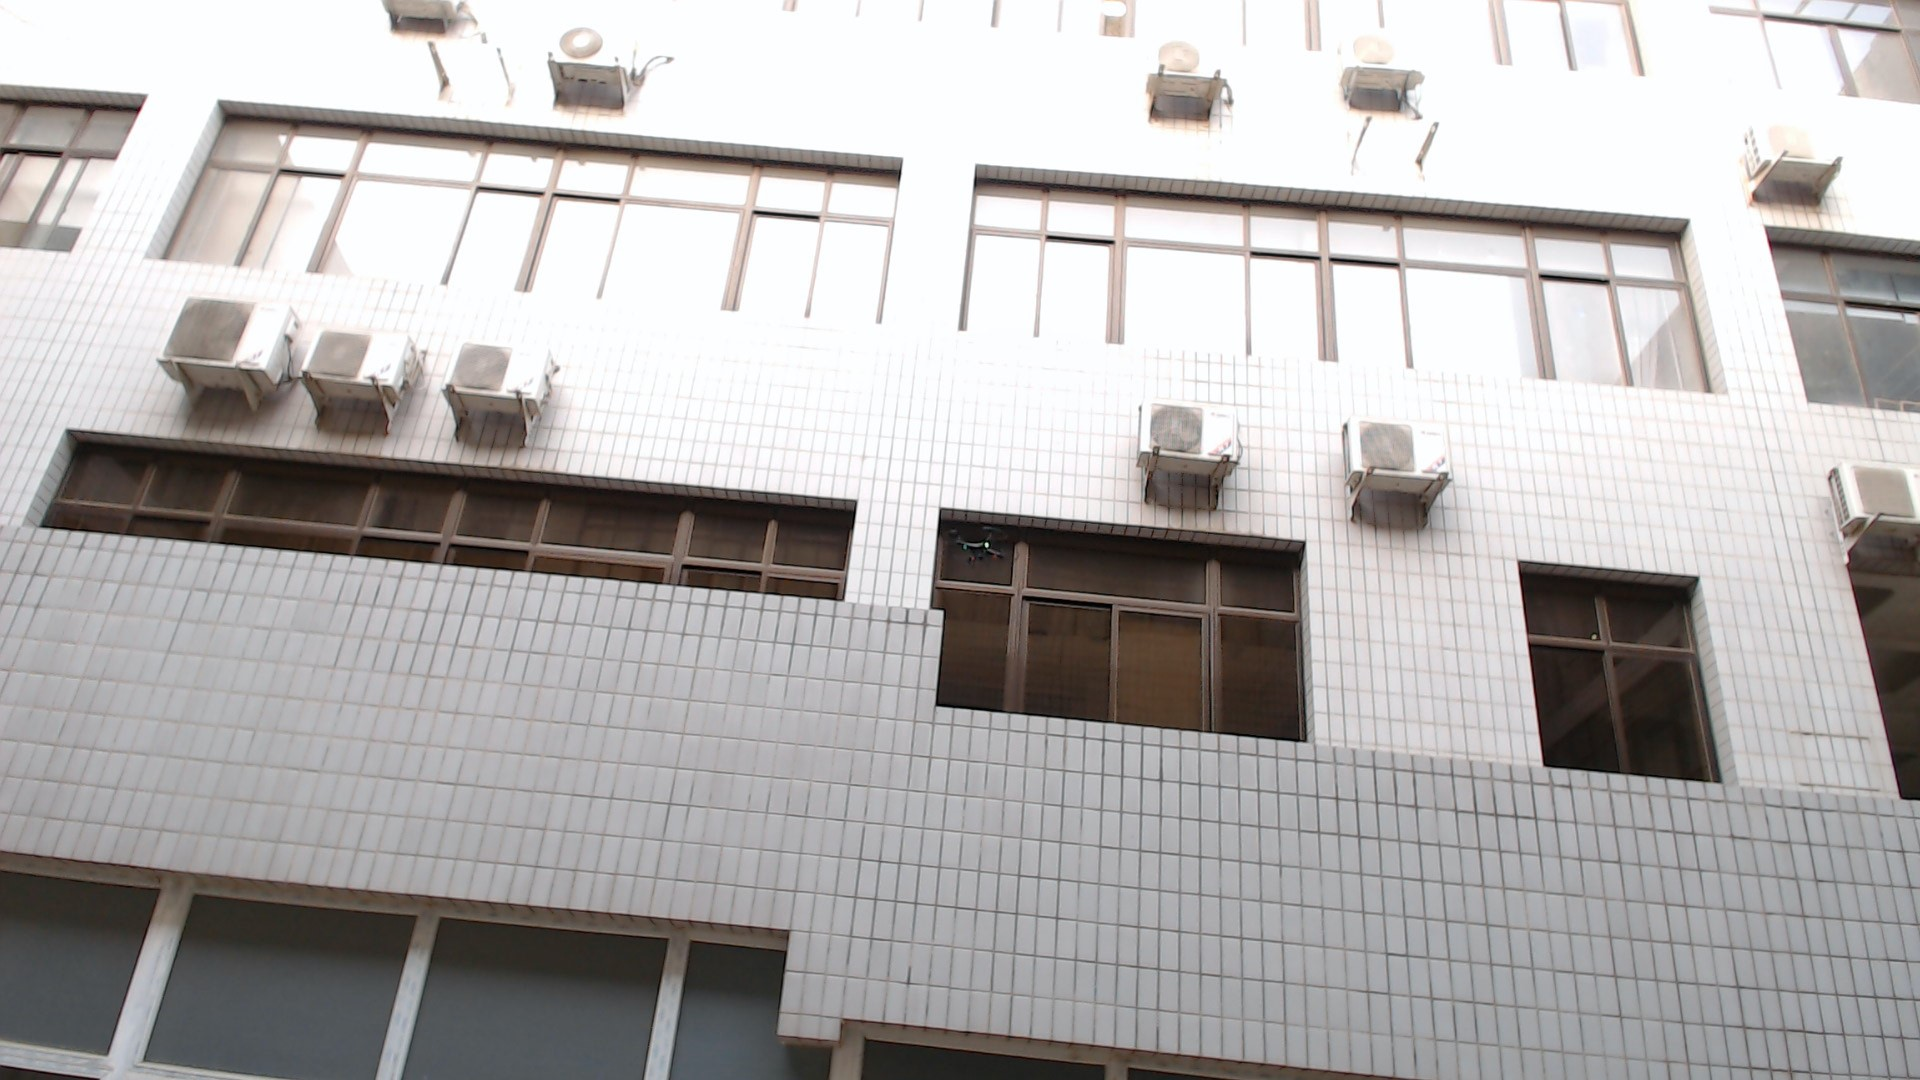drone: (940, 516, 1035, 582)
